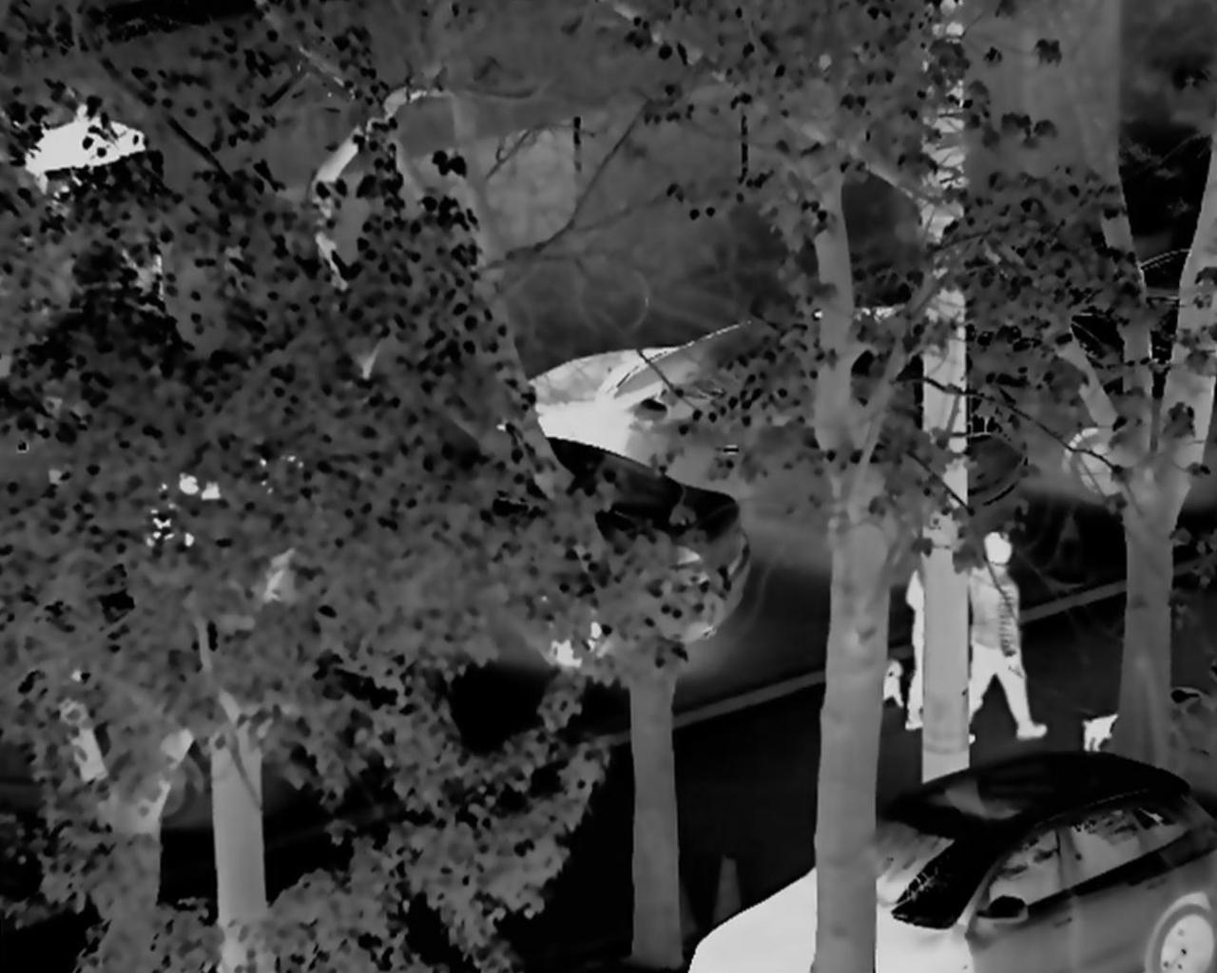person: (955, 519, 1051, 741), (907, 541, 964, 735)
